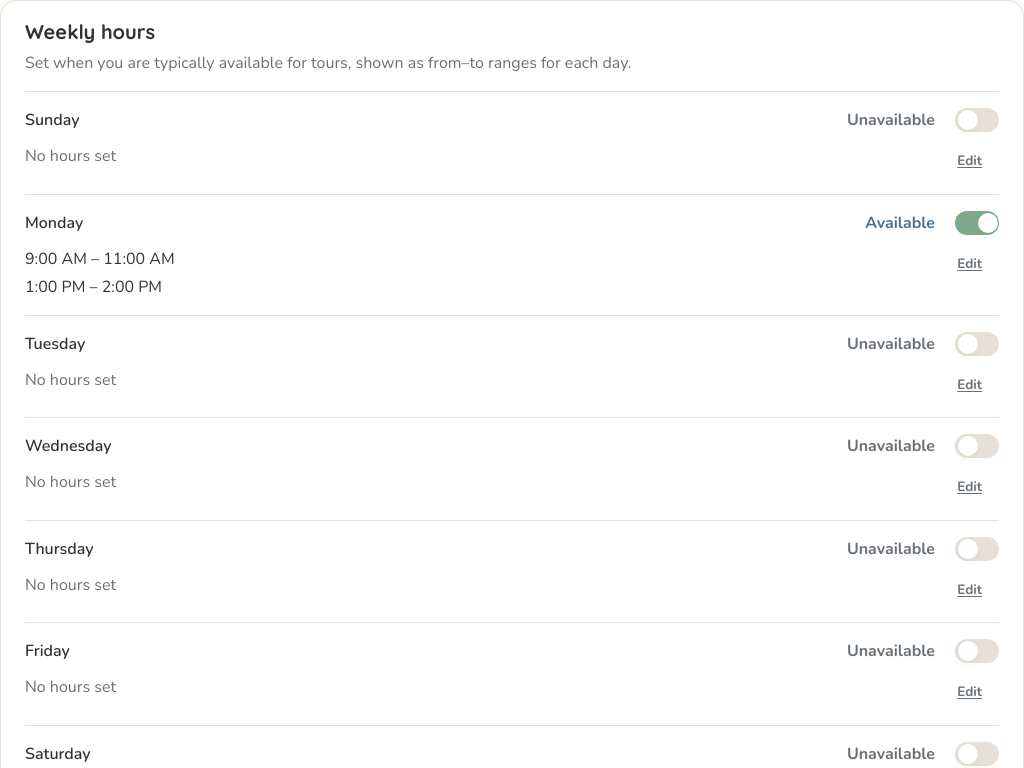
Test: WeeklyHoursPanel — re-activate 422 leaves the day Unavailable + notifies › shows the backend message and does not flip the day when re-activation is rejected
Click the switch named "tuesday availability" at [977, 344], box [955, 332, 999, 356]
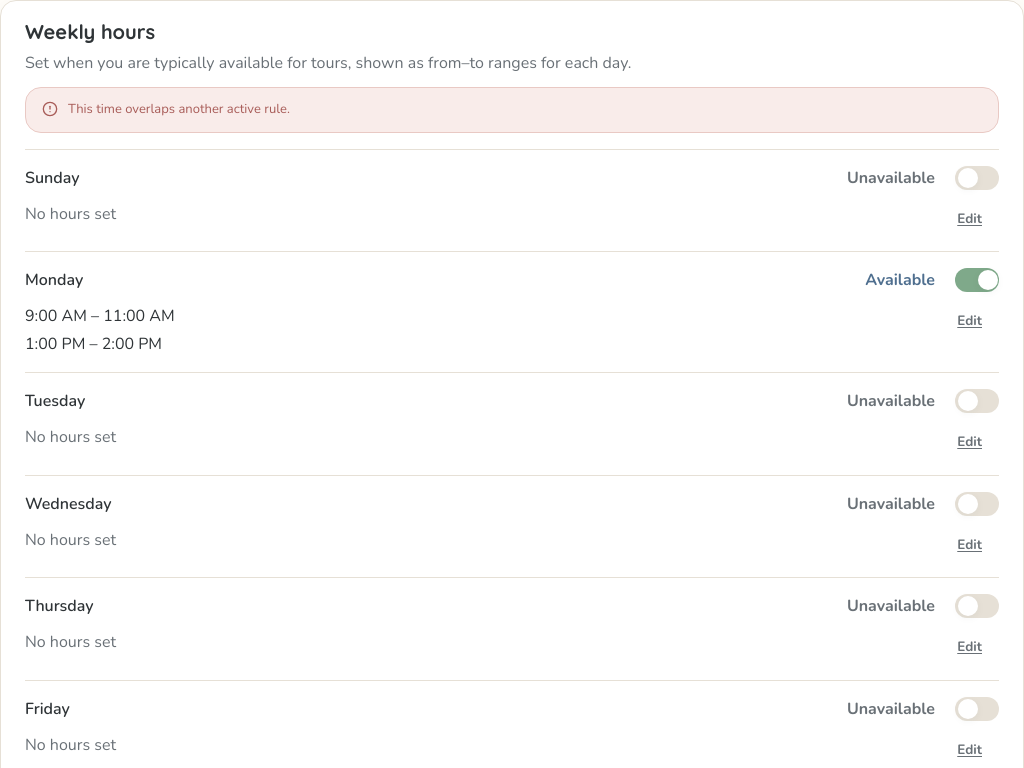
Expected: the text "This time overlaps another active rule." is shown, [68, 100, 290, 118]
